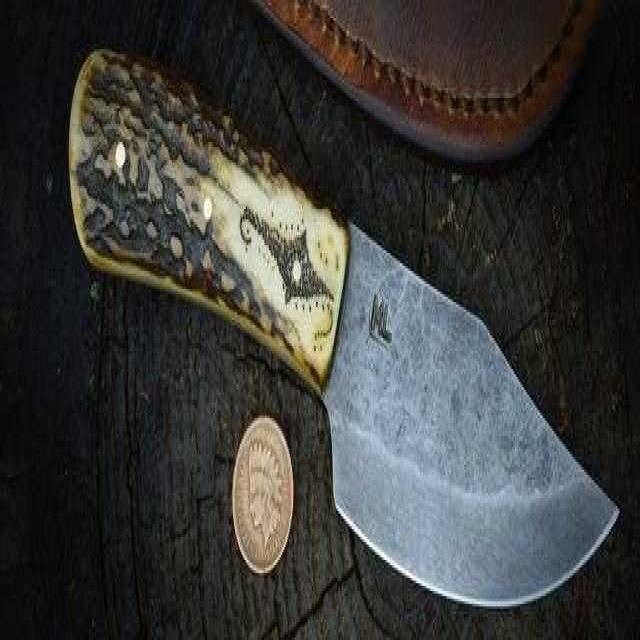weapon: (69, 50, 632, 622)
